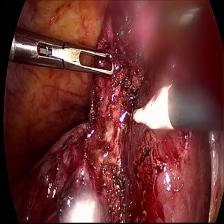Grasper: (20, 34, 118, 86)
Hook: (119, 73, 170, 142)
